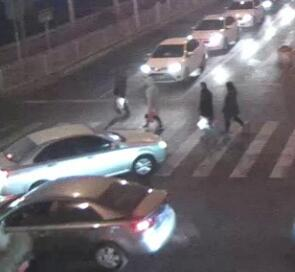car: (0, 179, 177, 269), (0, 123, 170, 206), (140, 35, 208, 84), (193, 12, 239, 54), (224, 0, 268, 29)
